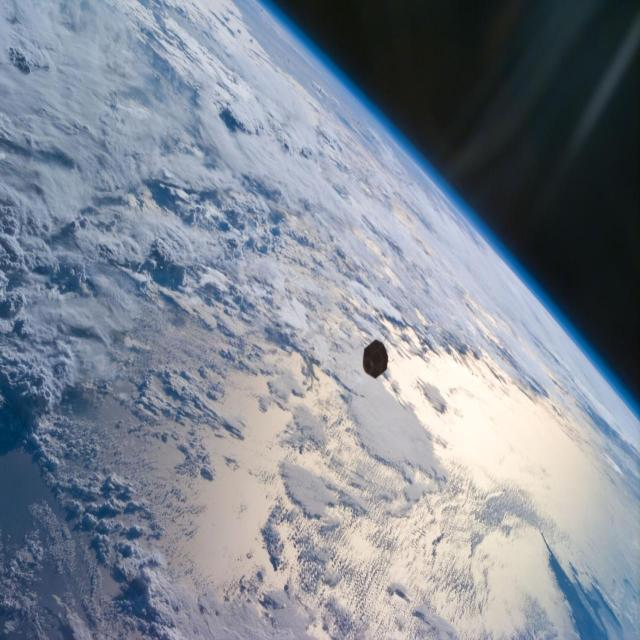medium_debris: (362, 340, 388, 377)
